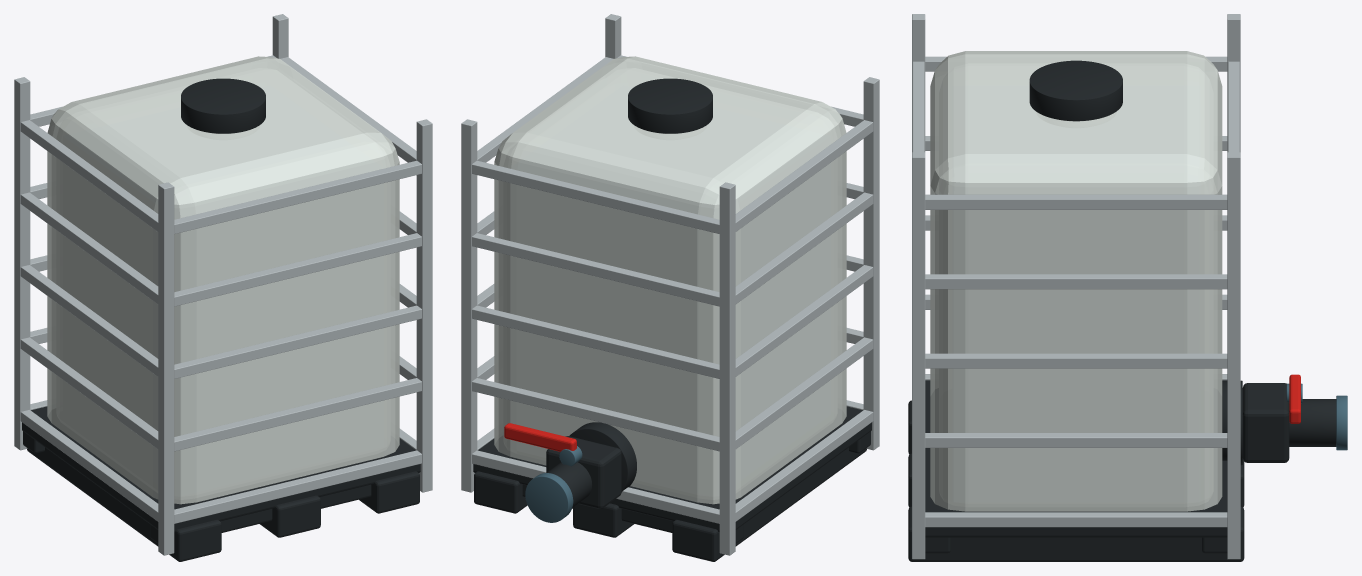
Rendered from tote_finishing_open_ibc.glb.
3 views of the same model, side by side, from view 1: azimuth 30°, elevation 25°; view 2: azimuth 150°, elevation 25°; view 3: azimuth 270°, elevation 25° (orthographic). The views are drawn at different scales.
Parts seen in each view (by area): view 1: IBC_tank, IBC_cage_post_-0.56_-0.54, IBC_cage_post_0.56_-0.54, IBC_cage_post_-0.56_0.54, IBC_pallet_deck, IBC_fill_cap, IBC_cage_x_0.78_-0.54, IBC_cage_x_1.08_-0.54, IBC_cage_x_0.18_-0.54, IBC_cage_x_0.48_-0.54, IBC_cage_x_1.38_-0.54, IBC_pallet_runner_-0.43 (+10 smaller); view 2: IBC_tank, IBC_cage_post_-0.56_0.54, IBC_cage_post_0.56_0.54, IBC_cage_post_-0.56_-0.54, IBC_fill_cap, IBC_cage_x_0.78_0.54, IBC_cage_x_1.08_0.54, IBC_cage_x_0.48_0.54, IBC_cage_x_1.38_0.54, IBC_pallet_deck, IBC_pallet_runner_-0.43, IBC_cage_y_1.08_-0.56 (+15 smaller); view 3: IBC_tank, IBC_pallet_runner_0.43, IBC_cage_post_0.56_0.54, IBC_cage_post_0.56_-0.54, IBC_pallet_deck, IBC_fill_cap, IBC_cage_y_0.18_0.56, IBC_cage_y_0.78_0.56, IBC_cage_y_1.08_0.56, IBC_cage_y_1.38_0.56, IBC_cage_y_0.48_0.56, IBC_valve_body (+8 smaller).
Boxes of the visible parts, box(x1,y1,x2,y2) form: IBC_tank: box(47, 56, 399, 504); IBC_cage_post_-0.56_-0.54: box(158, 182, 174, 555); IBC_cage_post_0.56_-0.54: box(416, 119, 432, 492); IBC_cage_post_-0.56_0.54: box(14, 77, 30, 450); IBC_pallet_deck: box(22, 406, 420, 532); IBC_fill_cap: box(181, 78, 265, 133); IBC_cage_x_0.78_-0.54: box(174, 305, 421, 378); IBC_cage_x_1.08_-0.54: box(174, 233, 421, 306); IBC_cage_x_0.18_-0.54: box(174, 450, 421, 523); IBC_cage_x_0.48_-0.54: box(174, 378, 421, 451); IBC_cage_x_1.38_-0.54: box(174, 160, 421, 233); IBC_pallet_runner_-0.43: box(27, 447, 221, 561); IBC_tank: box(494, 56, 846, 504); IBC_cage_post_-0.56_0.54: box(719, 182, 735, 555); IBC_cage_post_0.56_0.54: box(461, 119, 477, 492); IBC_cage_post_-0.56_-0.54: box(863, 77, 879, 450); IBC_fill_cap: box(628, 78, 712, 133); IBC_cage_x_0.78_0.54: box(472, 305, 719, 378); IBC_cage_x_1.08_0.54: box(472, 233, 719, 306); IBC_cage_x_0.48_0.54: box(472, 378, 719, 451); IBC_cage_x_1.38_0.54: box(472, 160, 719, 233); IBC_pallet_deck: box(473, 406, 871, 532); IBC_pallet_runner_-0.43: box(672, 447, 866, 561); IBC_cage_y_1.08_-0.56: box(735, 192, 873, 304); IBC_tank: box(930, 51, 1222, 511); IBC_pallet_runner_0.43: box(908, 506, 1244, 561); IBC_cage_post_0.56_0.54: box(1227, 152, 1240, 559); IBC_cage_post_0.56_-0.54: box(912, 152, 925, 559); IBC_pallet_deck: box(925, 380, 1227, 537); IBC_fill_cap: box(1029, 60, 1122, 121); IBC_cage_y_0.18_0.56: box(925, 512, 1227, 527); IBC_cage_y_0.78_0.56: box(925, 353, 1227, 368); IBC_cage_y_1.08_0.56: box(925, 274, 1227, 289); IBC_cage_y_1.38_0.56: box(925, 194, 1227, 209); IBC_cage_y_0.48_0.56: box(925, 433, 1227, 447); IBC_valve_body: box(1242, 383, 1289, 462).
Size of the model in its own units: 1.17 by 1.58 by 1.5.
